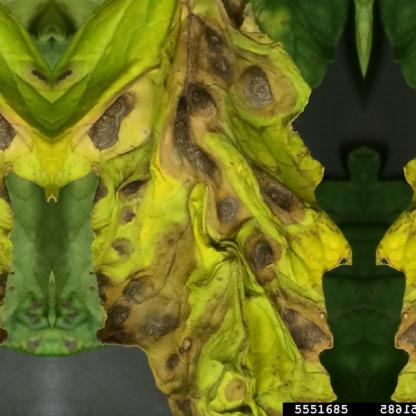Early-Blight: (73, 0, 346, 400)
